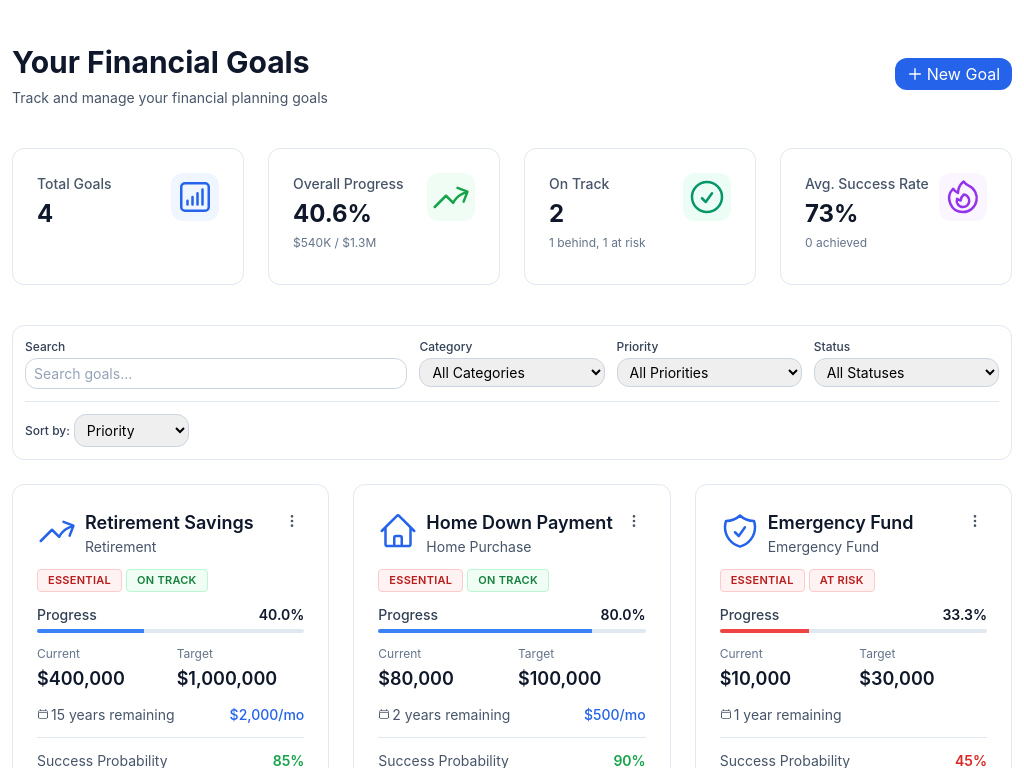
it: GoalDashboard › filters goals by category
// Use search instead of category select to avoid label collisions
Step 1. Type "College" into the field with placeholder "Search goals..." → [216, 374], box [25, 358, 407, 389]
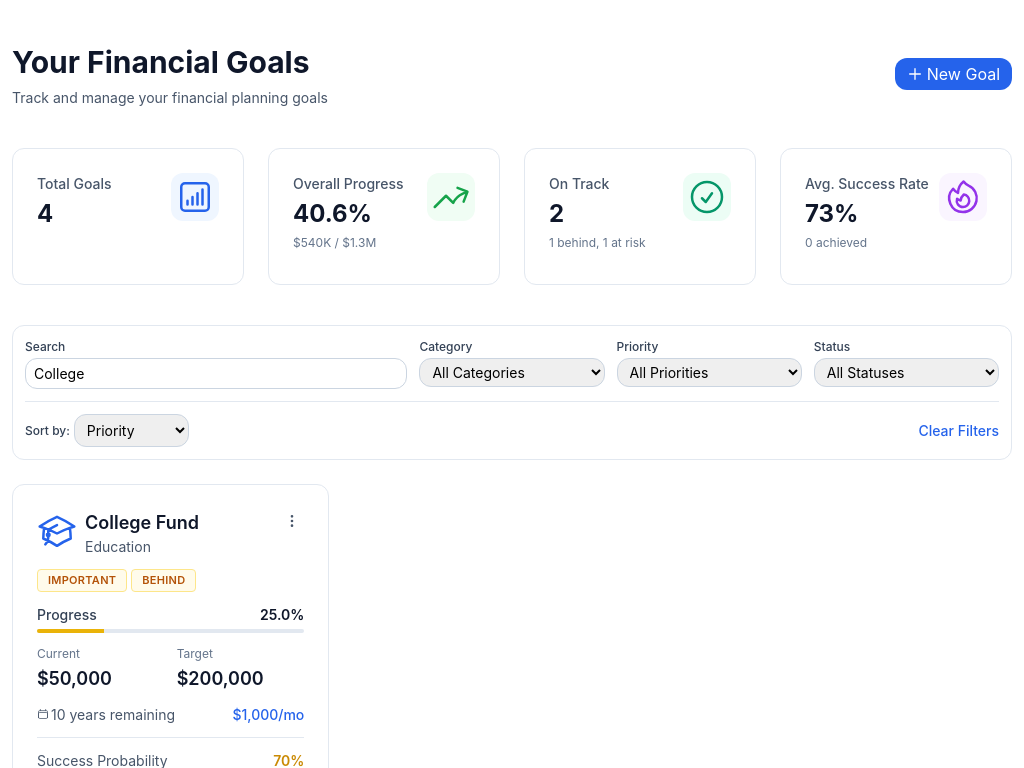
Expected: the heading "College Fund" is shown, [85, 509, 199, 536]
Expected: no headings "Retirement Savings" are shown
